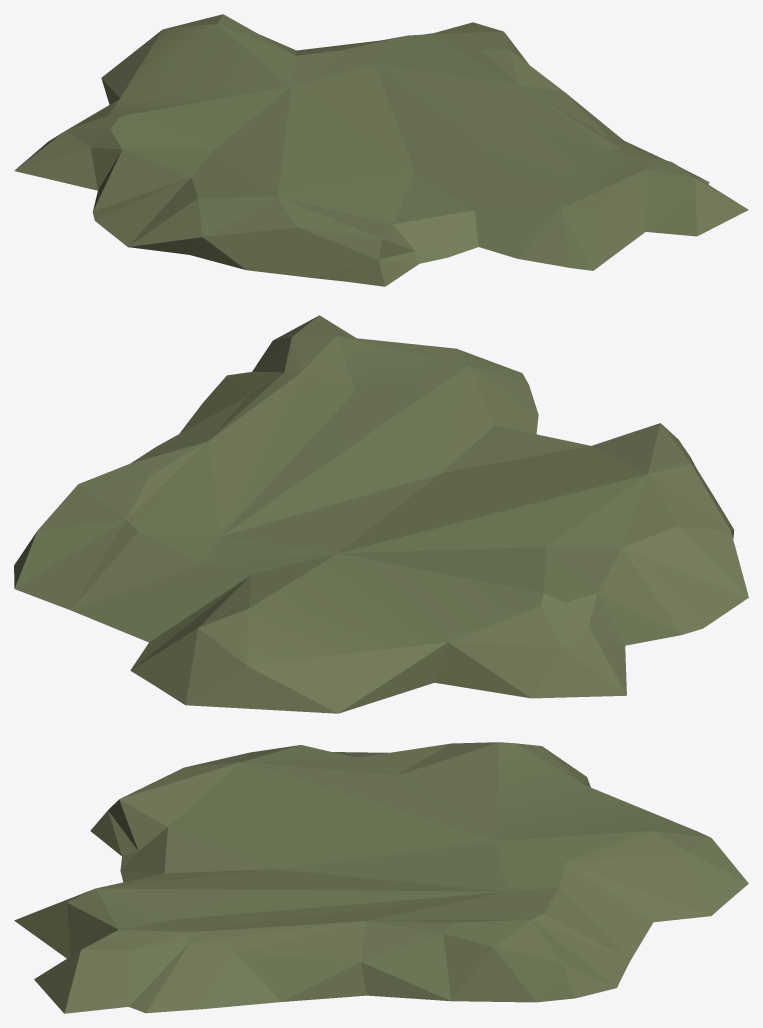
The model's file is synty-terrain-swamp-growth-02.gltf.
The picture shows the model from 3 angles, top to bottom: view 1: azimuth 30°, elevation 25°; view 2: azimuth 150°, elevation 25°; view 3: azimuth 270°, elevation 25°; orthographic projection. The views are drawn at different scales.
Parts seen in each view (by area): view 1: SM_Terrain_Swamp_Growth_02; view 2: SM_Terrain_Swamp_Growth_02; view 3: SM_Terrain_Swamp_Growth_02.
Part boxes in pixels (left/top/right/bottom): SM_Terrain_Swamp_Growth_02: left=14, top=14, right=748, bottom=286; SM_Terrain_Swamp_Growth_02: left=14, top=315, right=748, bottom=713; SM_Terrain_Swamp_Growth_02: left=14, top=742, right=748, bottom=1013.
Size of the model in its own units: 1.25 by 0.1116 by 1.46.
1 material, 1 textured.
